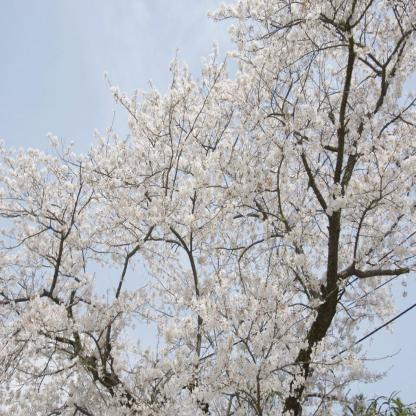Someiyoshino: (2, 3, 415, 415)
